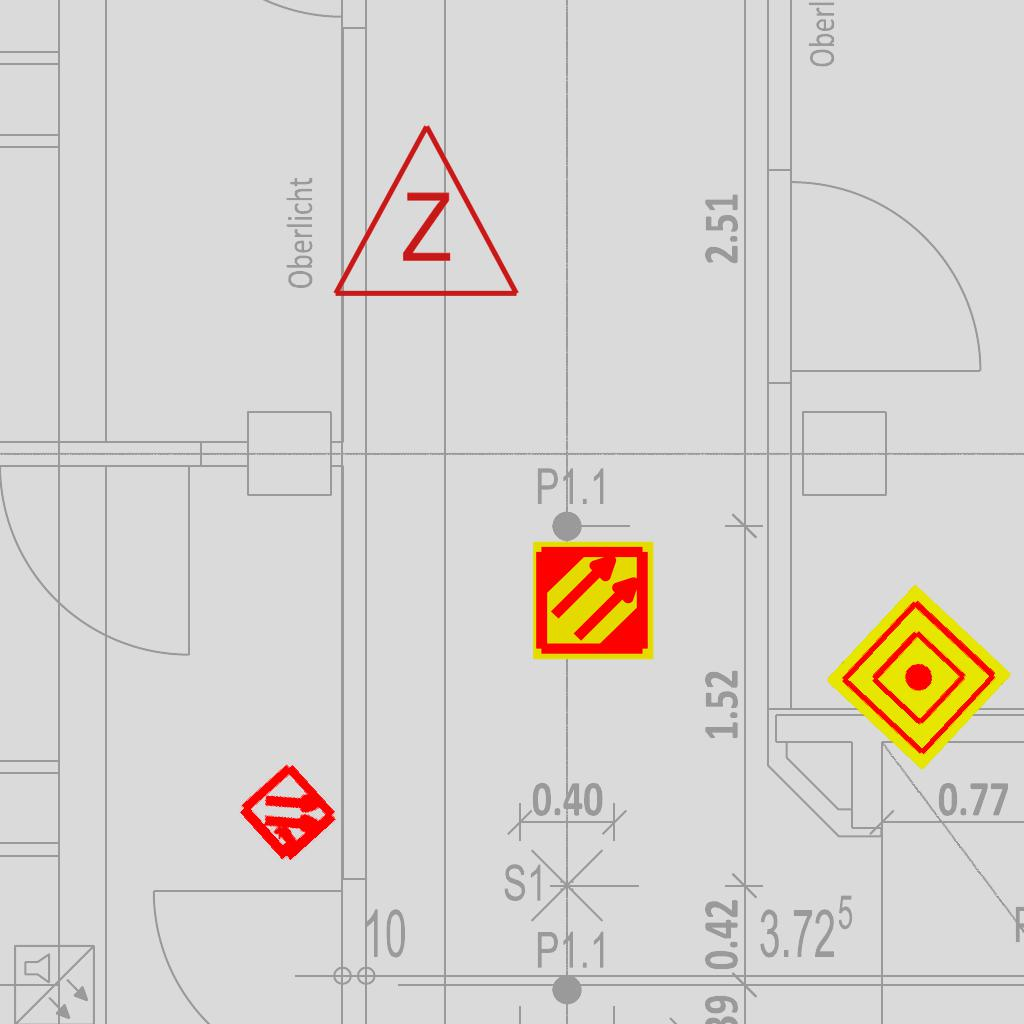ASR_Ansaugrauchmelder: (531, 538, 656, 663)
NAM-Nichtautomatischer_Melder: (825, 583, 1013, 771)
OT_Multisensormelder_(Kombination_RMO_WMD): (209, 734, 370, 895)
Zimmersignalleuchte: (326, 111, 522, 311)
